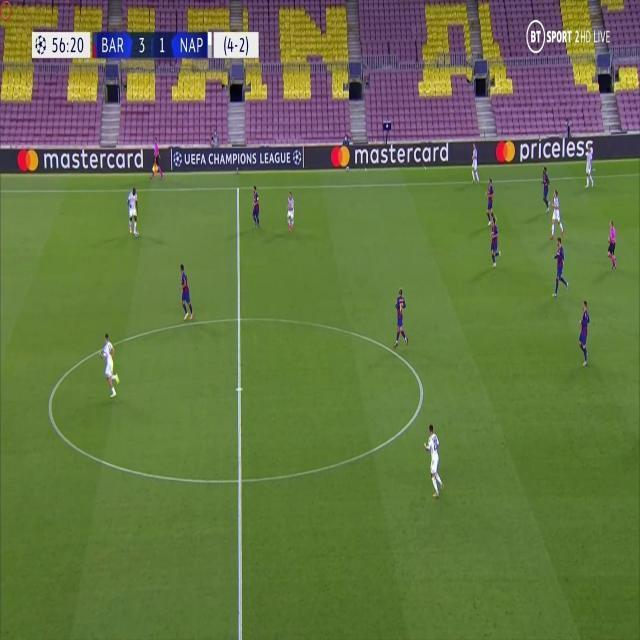ball: (134, 228, 141, 241)
player: (423, 422, 445, 498), (99, 330, 119, 398), (576, 296, 593, 368), (551, 237, 569, 299), (392, 286, 410, 348), (177, 261, 195, 322), (549, 189, 565, 241), (488, 217, 503, 270), (126, 184, 140, 237), (483, 176, 497, 225), (584, 143, 597, 187), (250, 183, 262, 229), (539, 164, 550, 210), (469, 141, 481, 183), (286, 188, 296, 232)
referee: (149, 135, 164, 182), (606, 216, 618, 270)
